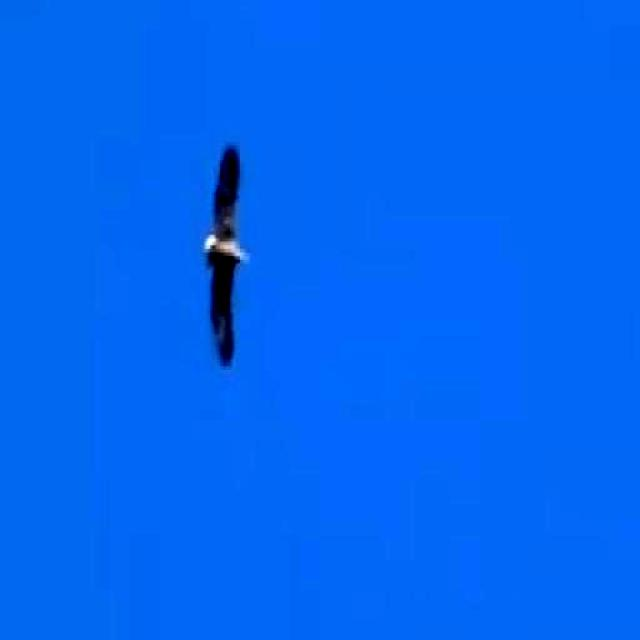airplane: (190, 99, 260, 374)
